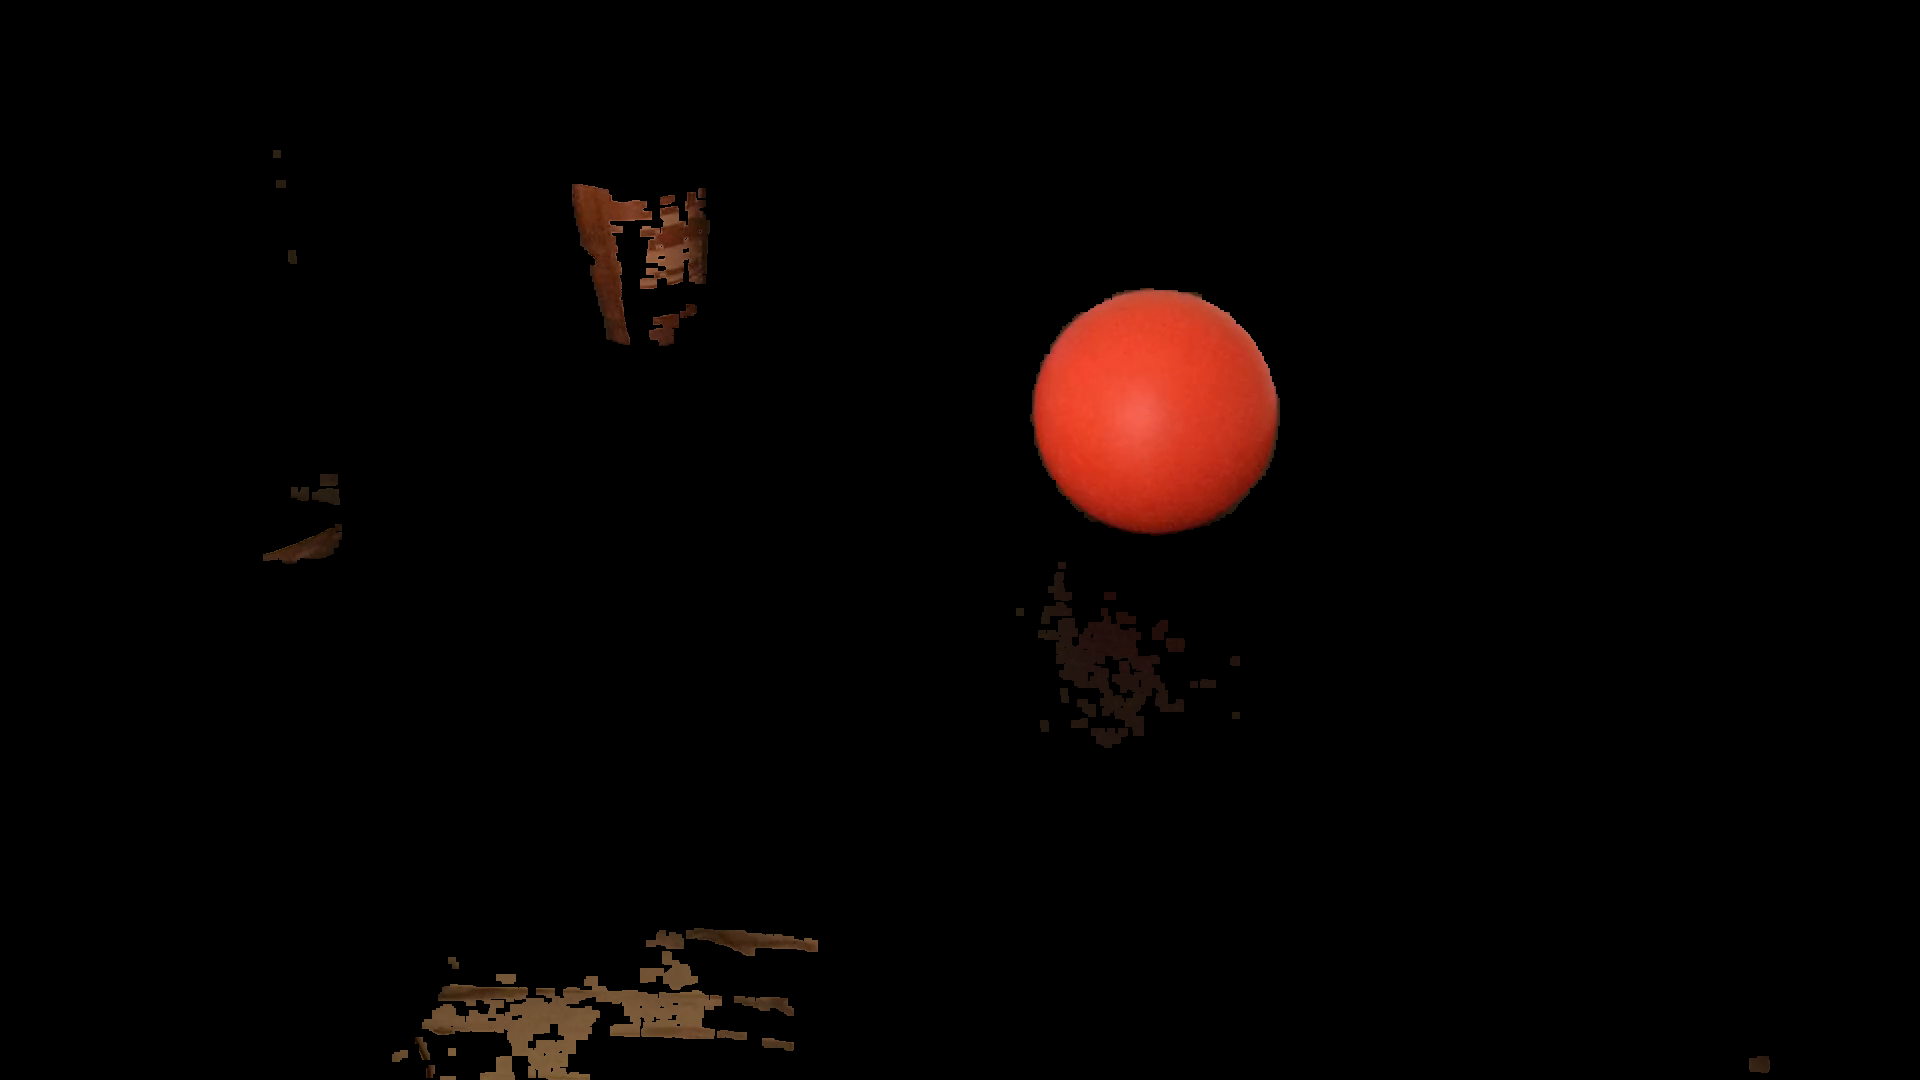Ball: (1034, 280, 1279, 538)
